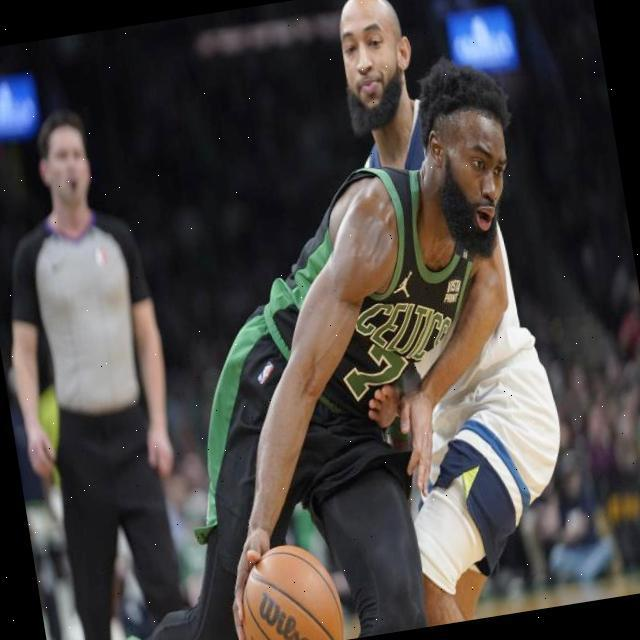ball: (225, 533, 348, 640)
